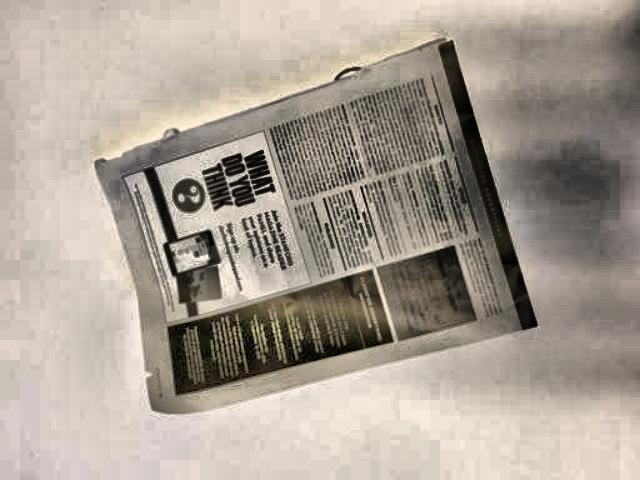Paper: (90, 36, 550, 416)
